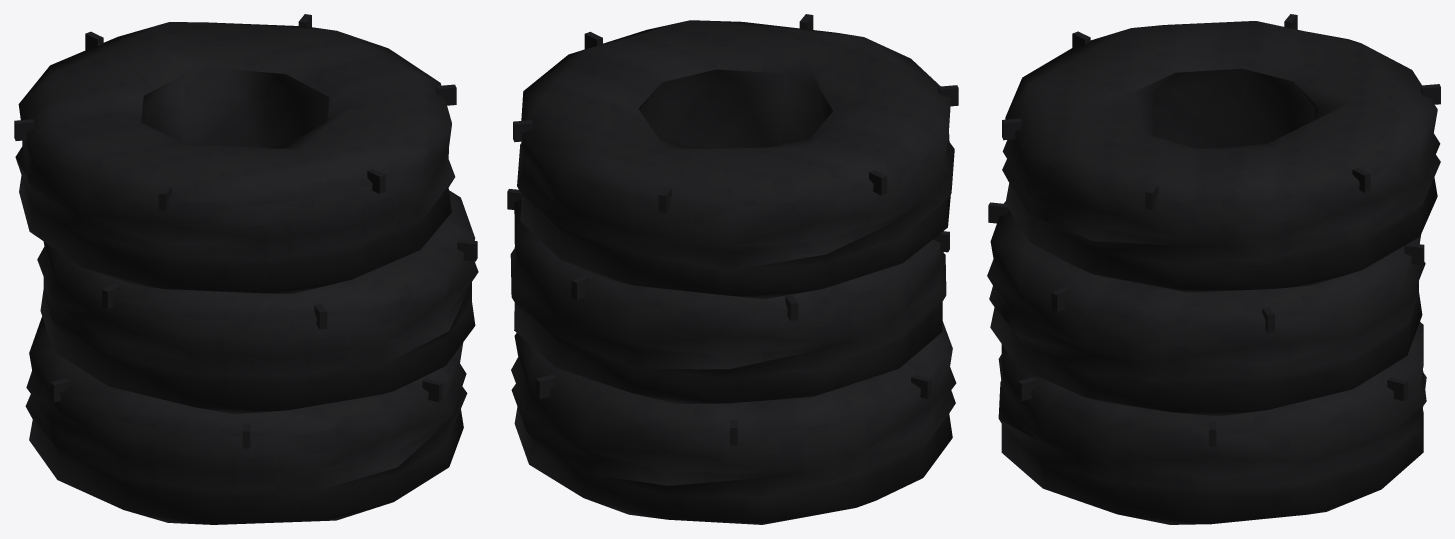
File: pilha-de-pneus-3-leve.glb
The picture shows the model from 3 angles, left to right: view 1: azimuth 30°, elevation 25°; view 2: azimuth 150°, elevation 25°; view 3: azimuth 270°, elevation 25°; orthographic projection.
Parts seen in each view (by area): view 1: pneu-2, pneu-1, pneu-0; view 2: pneu-2, pneu-0, pneu-1; view 3: pneu-2, pneu-1, pneu-0.
Boxes of the visible parts, x1,y1,x2,y2 form: pneu-2: (15,22,455,293); pneu-1: (37,190,478,414); pneu-0: (25,316,467,524); pneu-2: (517,20,954,298); pneu-0: (511,321,956,524); pneu-1: (510,200,946,403); pneu-2: (1002,21,1440,292); pneu-1: (987,201,1425,416); pneu-0: (998,322,1426,524).
Bounding box in the file's own units: 0.7138 × 0.6006 × 0.7191.
Materials: 1 (1 with a texture image).
